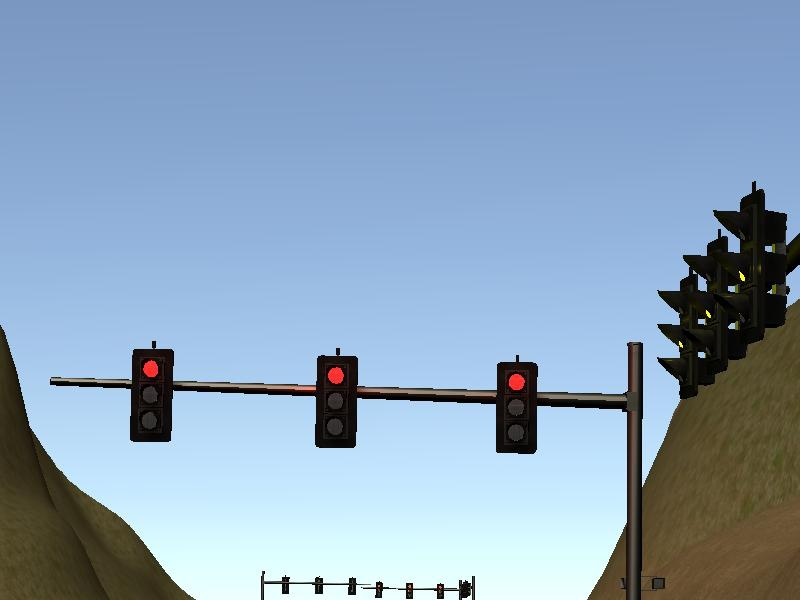Red: (128, 347, 176, 446), (312, 354, 360, 453), (493, 359, 541, 458)
